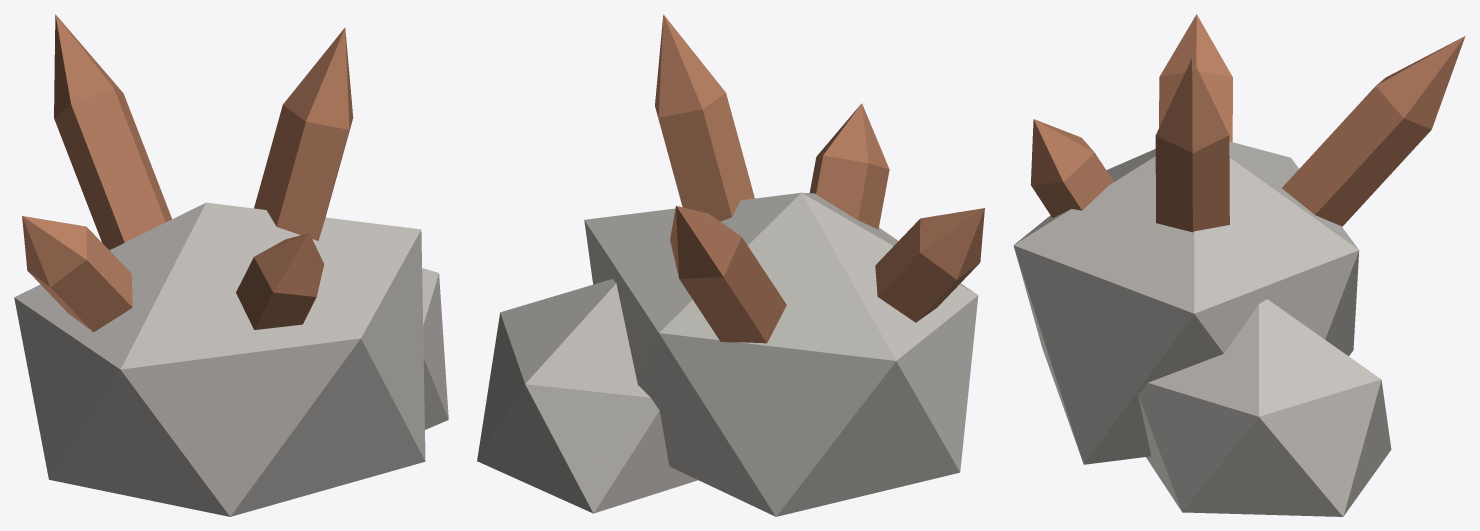
Rendered from iron_outcrop.glb.
3 views of the same model, side by side, from view 1: azimuth 30°, elevation 25°; view 2: azimuth 150°, elevation 25°; view 3: azimuth 270°, elevation 25° (orthographic). The views are drawn at different scales.
Parts seen in each view (by area): view 1: iron_outcrop; view 2: iron_outcrop; view 3: iron_outcrop.
Boxes of the visible parts, left/top/right/bottom form: iron_outcrop: left=14, top=14, right=448, bottom=516; iron_outcrop: left=477, top=14, right=984, bottom=516; iron_outcrop: left=1013, top=14, right=1465, bottom=516.
Bounding box in the file's own units: 0.948 × 0.8343 × 0.8392.
